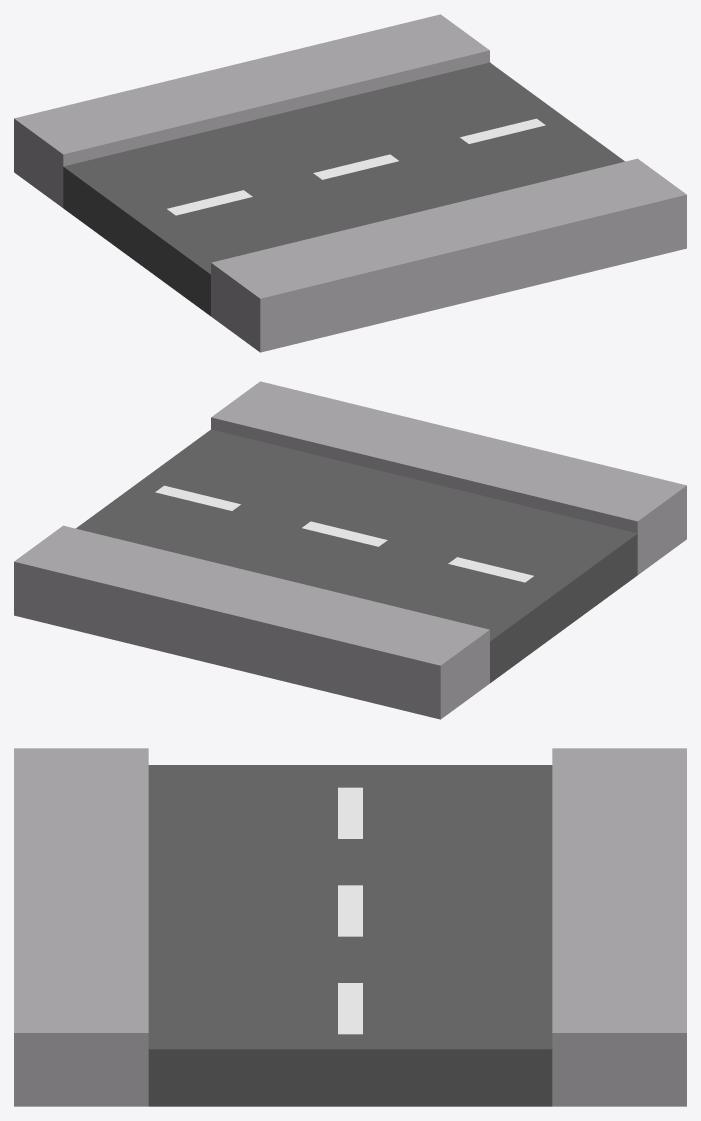
3 renders of one model, top to bottom at view 1: azimuth 30°, elevation 25°; view 2: azimuth 150°, elevation 25°; view 3: azimuth 270°, elevation 25°, orthographic. The views are drawn at different scales.
Parts seen in each view (by area): view 1: Road 1; view 2: Road 1; view 3: Road 1.
Part boxes in pixels (<box>): Road 1: <box>14,14,686,352</box>; Road 1: <box>14,381,686,719</box>; Road 1: <box>14,748,686,1106</box>.
Bounding box in the file's own units: 2.66 × 0.3215 × 2.66.
Materials: 1 (1 with a texture image).
